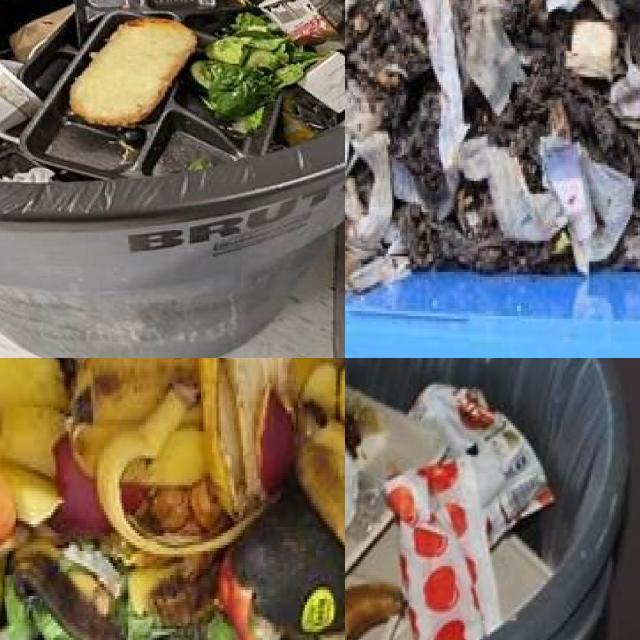Disposable: (21, 14, 291, 179), (345, 386, 446, 574), (19, 5, 78, 98)
Garbage: (0, 358, 345, 640), (345, 0, 640, 306), (345, 383, 554, 640)
Plastic_Bag: (411, 383, 554, 545), (386, 456, 500, 640)
Tetrapack: (259, 0, 345, 42)
